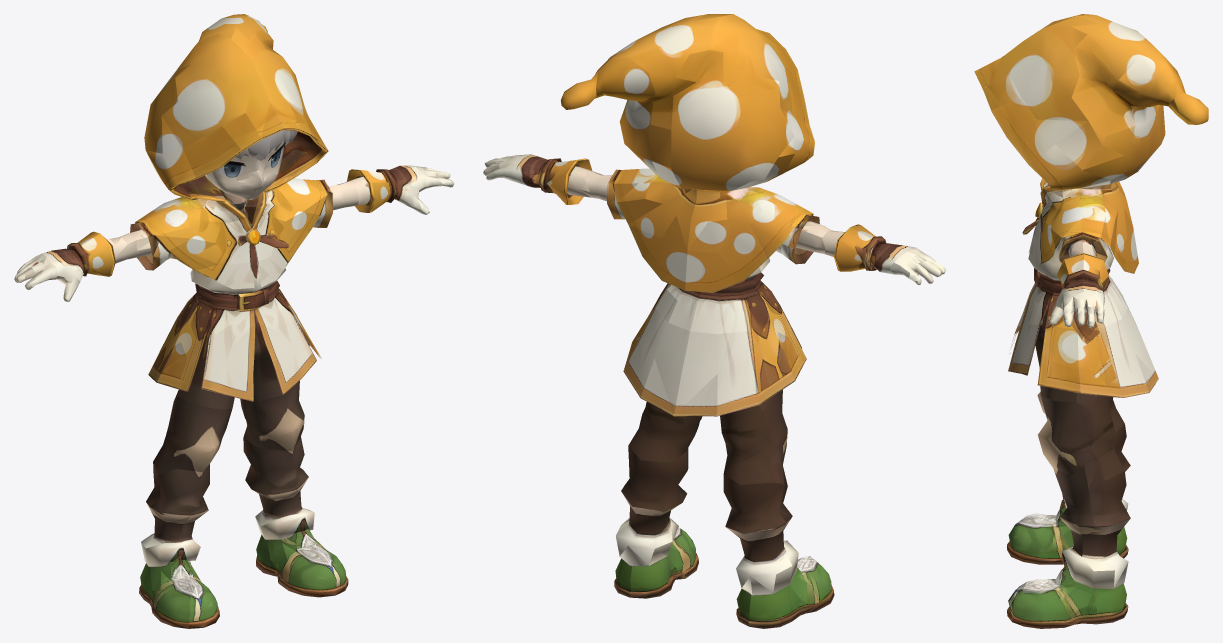
Rendered from spore_meshy.glb.
The picture shows the model from 3 angles, left to right: view 1: azimuth 30°, elevation 25°; view 2: azimuth 150°, elevation 25°; view 3: azimuth 270°, elevation 25°; orthographic projection. The views are drawn at different scales.
Size of the model in its own units: 1.65 by 2 by 0.7523.
1 material, 1 textured.
